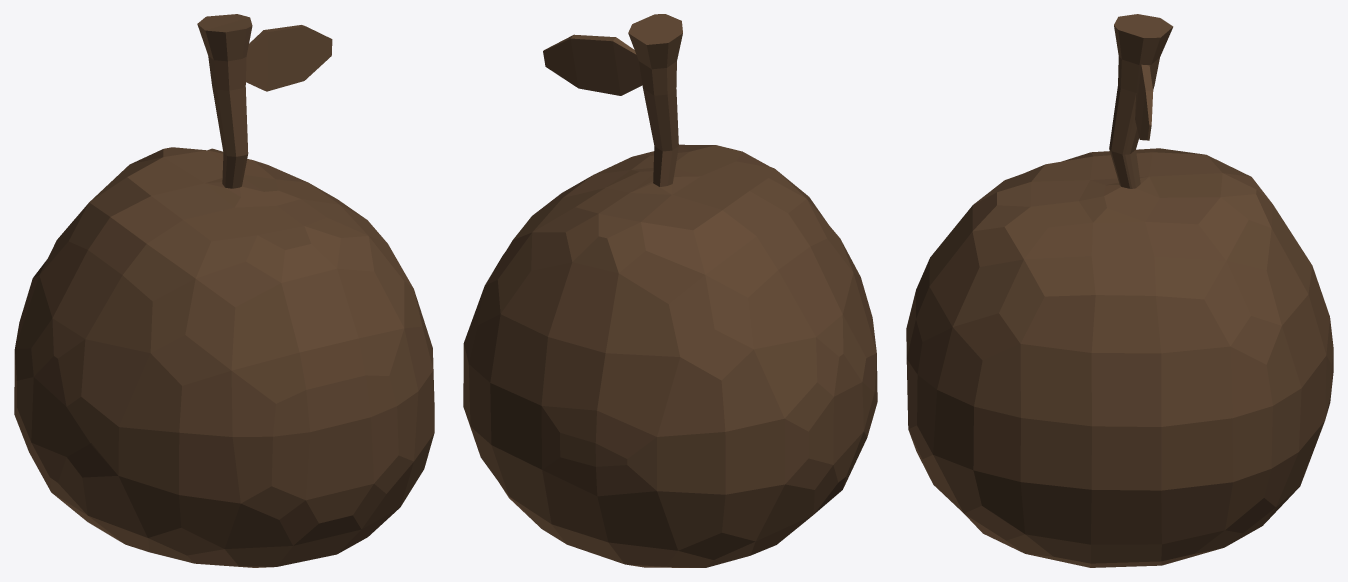
The model's file is A_Juice.fbx.
3 renders of one model, left to right at view 1: azimuth 30°, elevation 25°; view 2: azimuth 150°, elevation 25°; view 3: azimuth 270°, elevation 25°, orthographic.
Visible parts, largest first — view 1: A_Juice; view 2: A_Juice; view 3: A_Juice.
Part boxes in pixels (x1=…): A_Juice: x1=14, y1=14, x2=434, y2=567; A_Juice: x1=463, y1=14, x2=877, y2=567; A_Juice: x1=906, y1=14, x2=1333, y2=567.
Size of the model in its own units: 180 by 249 by 187.
